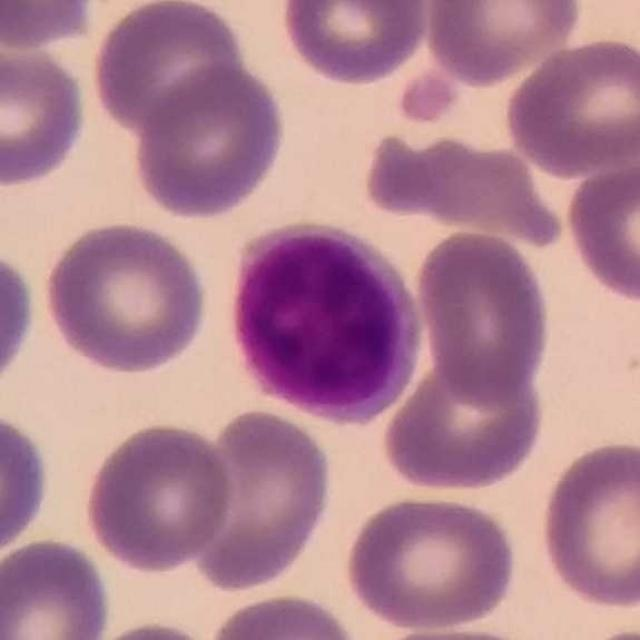Lymphocyte: (222, 215, 428, 427)
Platelets: (399, 58, 459, 120)
RBC: (185, 404, 336, 597), (39, 217, 211, 376), (340, 490, 521, 633), (129, 59, 288, 221), (411, 225, 554, 404), (79, 418, 237, 576), (359, 131, 572, 247), (380, 355, 548, 494), (87, 0, 251, 140), (501, 32, 640, 178), (535, 436, 640, 612), (0, 32, 92, 190), (420, 0, 586, 87), (277, 0, 433, 89), (561, 152, 640, 308), (0, 534, 115, 640), (0, 406, 53, 564), (204, 589, 366, 640), (0, 244, 40, 398), (0, 0, 103, 52), (361, 621, 554, 640), (74, 616, 226, 640)
